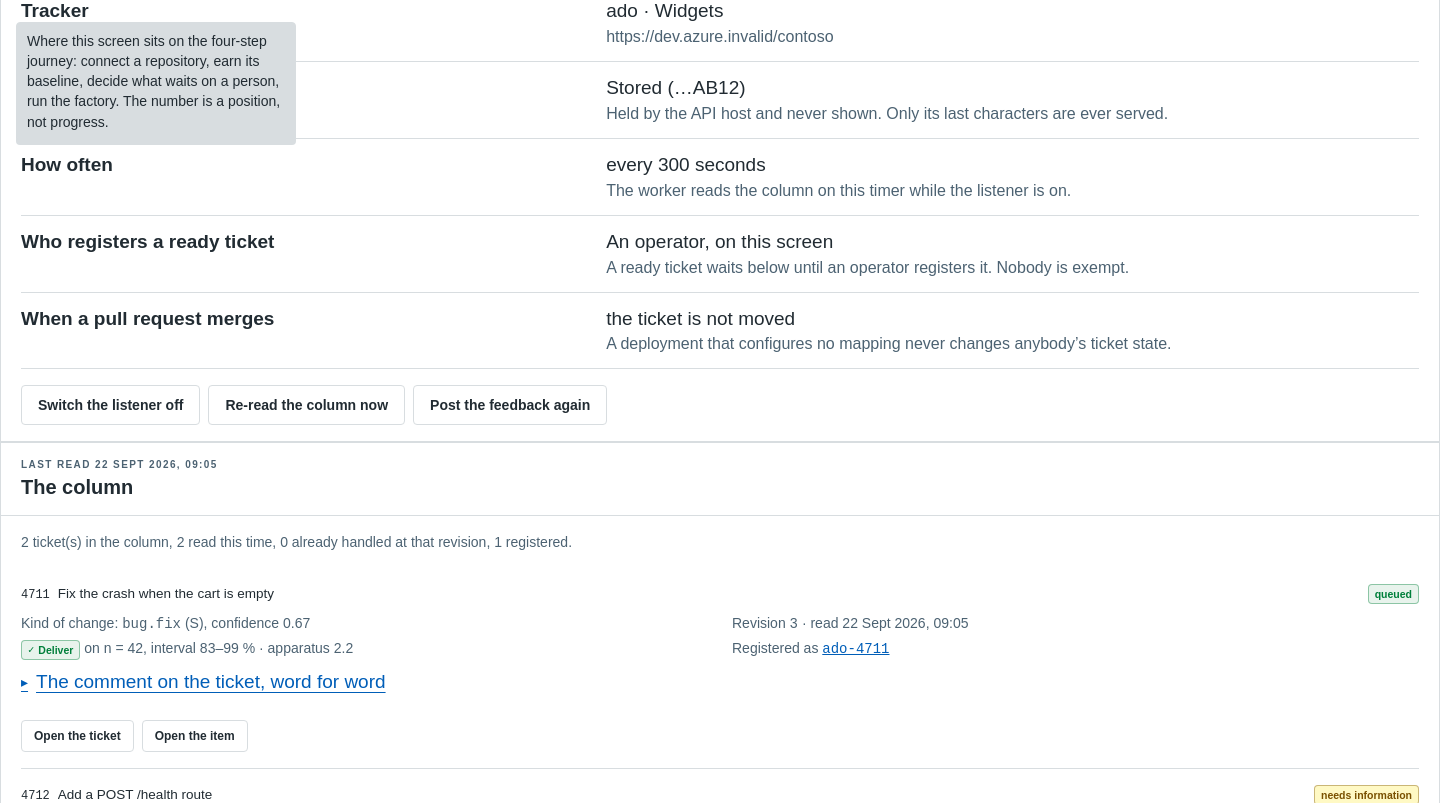
Test: IntakePage › "Post the feedback again" is the same poll with force, so a deleted comment comes back
The width and height of the screenshot is (1440, 803).
(page scrolled)
Click the button "Post the feedback again". click: x=510, y=406
box: [413,386,607,426]
(page scrolled)
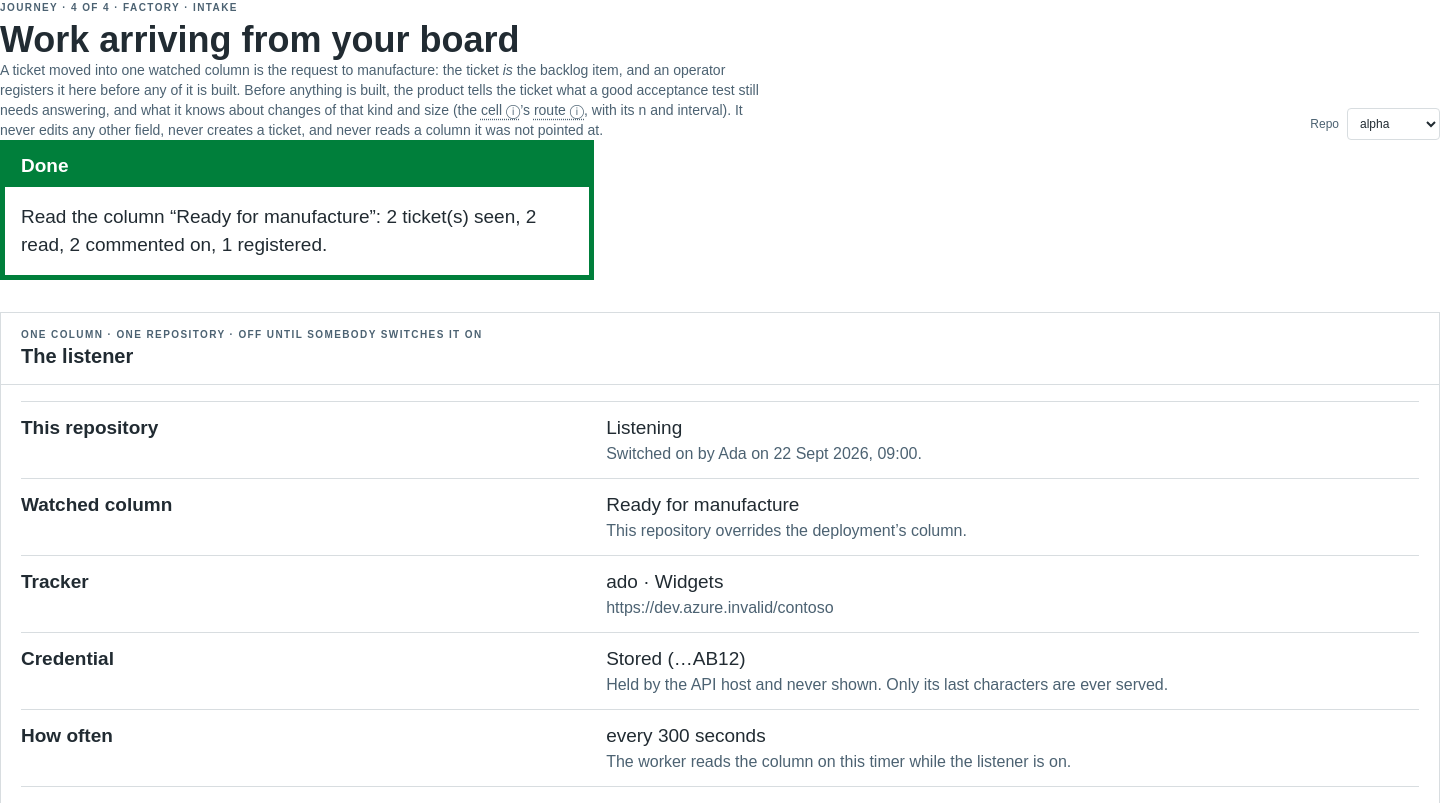
Now the message with test id "intake-success" is shown, box [21,203,573,259]
